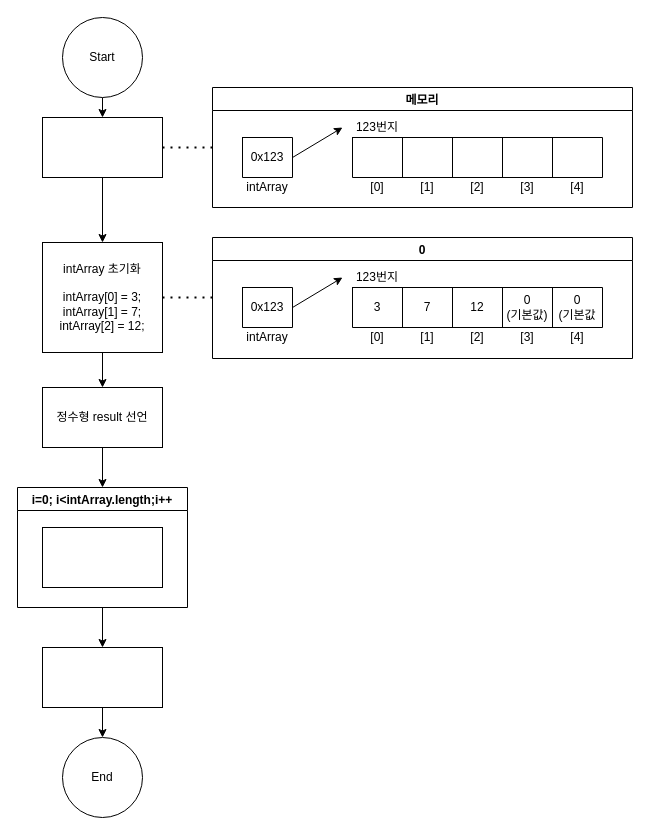
The diagram is 650 pixels wide and 835 high, and some of its shapes have lost their labels. Here are the shapes that lost their labels. From the top down, the centre of each, then its label:
At (x=102, y=147): "정수형 배열 5칸 선언 intArray".
At (x=102, y=557): "result = result + intArray[i];".
At (x=102, y=677): "result 출력(println)".
